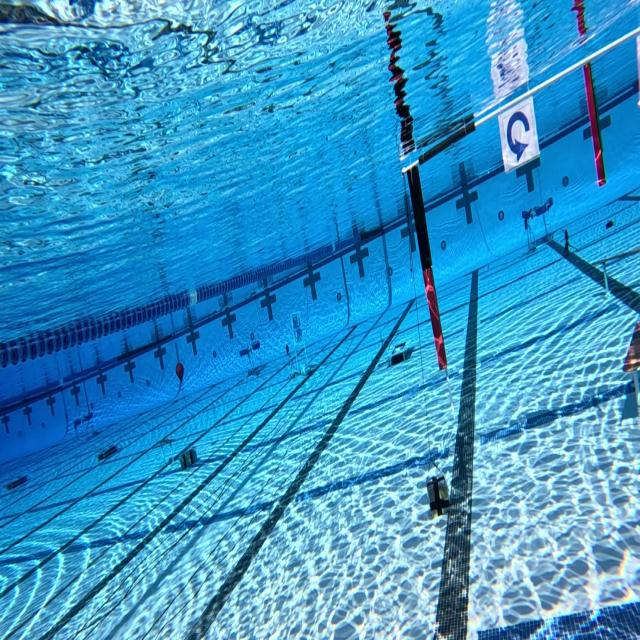blue_side: (496, 89, 539, 173)
